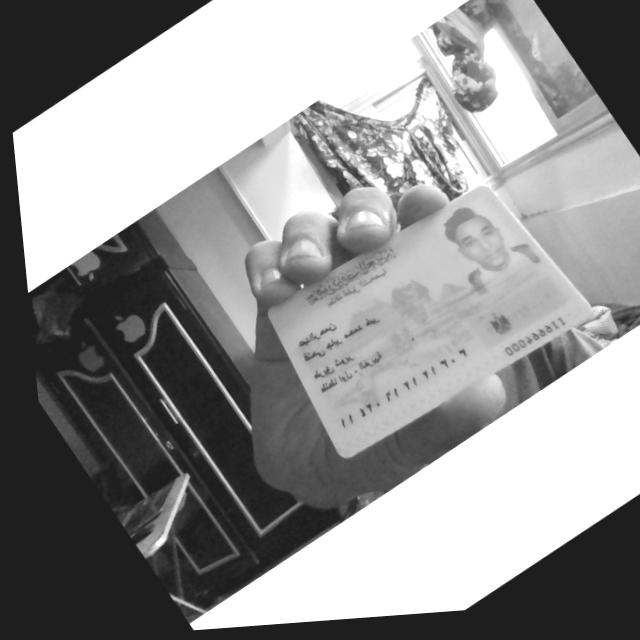id_card: (268, 185, 590, 458)
